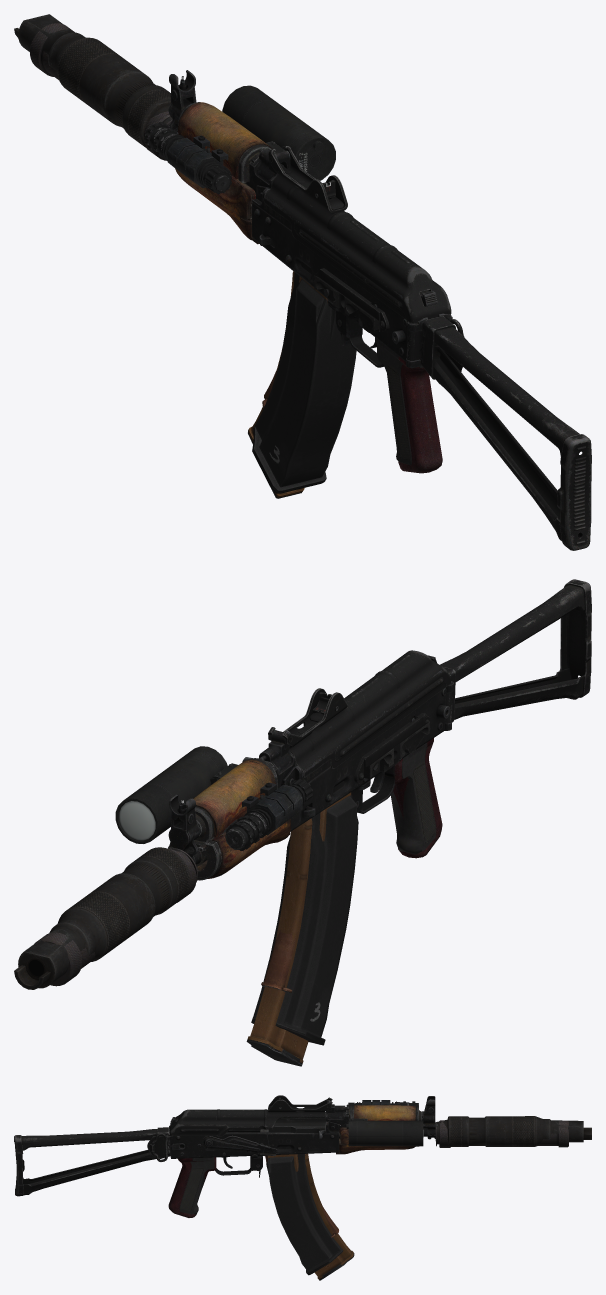
Rendered from aks_74_u_world.fbx.
3 views of the same model, one above another, from view 1: azimuth 30°, elevation 25°; view 2: azimuth 150°, elevation 25°; view 3: azimuth 270°, elevation 25° (orthographic). The views are drawn at different scales.
Visible parts, largest first — view 1: mag_60, stock, ksk, body, silencer_pbs4, flashlight, handguard_3, pistolgrip, laser, hvost, pistolgrip_4, silencer_tgpa; view 2: mag_60, silencer_pbs4, ksk, stock, body, mag_45, flashlight, handguard_3, pistolgrip_4, laser, hvost, silencer_tgpa (+4 smaller); view 3: body, mag_60, stock, silencer_pbs4, ksk, flashlight, handguard_3, mag_45, pistolgrip_4, bolt, pistolgrip, silencer_tgpa (+1 smaller).
Part boxes in pixels (x1,y1,x2,y2): mag_60: (252, 272, 356, 493); stock: (406, 316, 591, 550); ksk: (263, 146, 451, 323); body: (168, 70, 452, 368); silencer_pbs4: (14, 14, 173, 148); flashlight: (222, 85, 335, 180); handguard_3: (175, 102, 272, 244); pistolgrip: (398, 356, 442, 473); laser: (144, 122, 231, 194); hvost: (313, 268, 389, 332); pistolgrip_4: (375, 337, 411, 465); silencer_tgpa: (30, 23, 172, 160); mag_60: (251, 795, 358, 1045); silencer_pbs4: (14, 847, 190, 989); ksk: (268, 650, 450, 777); stock: (440, 579, 591, 723); body: (168, 655, 453, 864); mag_45: (246, 792, 351, 1066); flashlight: (115, 746, 238, 843); handguard_3: (186, 759, 290, 878); pistolgrip_4: (384, 742, 436, 854); laser: (225, 779, 312, 850); hvost: (354, 713, 429, 783); silencer_tgpa: (34, 848, 197, 986); body: (169, 1096, 437, 1177); mag_60: (266, 1153, 343, 1275); stock: (14, 1127, 170, 1196); silencer_pbs4: (435, 1116, 591, 1146); ksk: (170, 1095, 332, 1136); flashlight: (346, 1118, 423, 1146); handguard_3: (336, 1105, 415, 1154); mag_45: (268, 1153, 354, 1280); pistolgrip_4: (179, 1157, 214, 1214); bolt: (260, 1112, 423, 1139); pistolgrip: (168, 1157, 216, 1217); silencer_tgpa: (436, 1120, 568, 1147).
Bounding box in the file's own units: 17.65 × 45.25 × 132.
